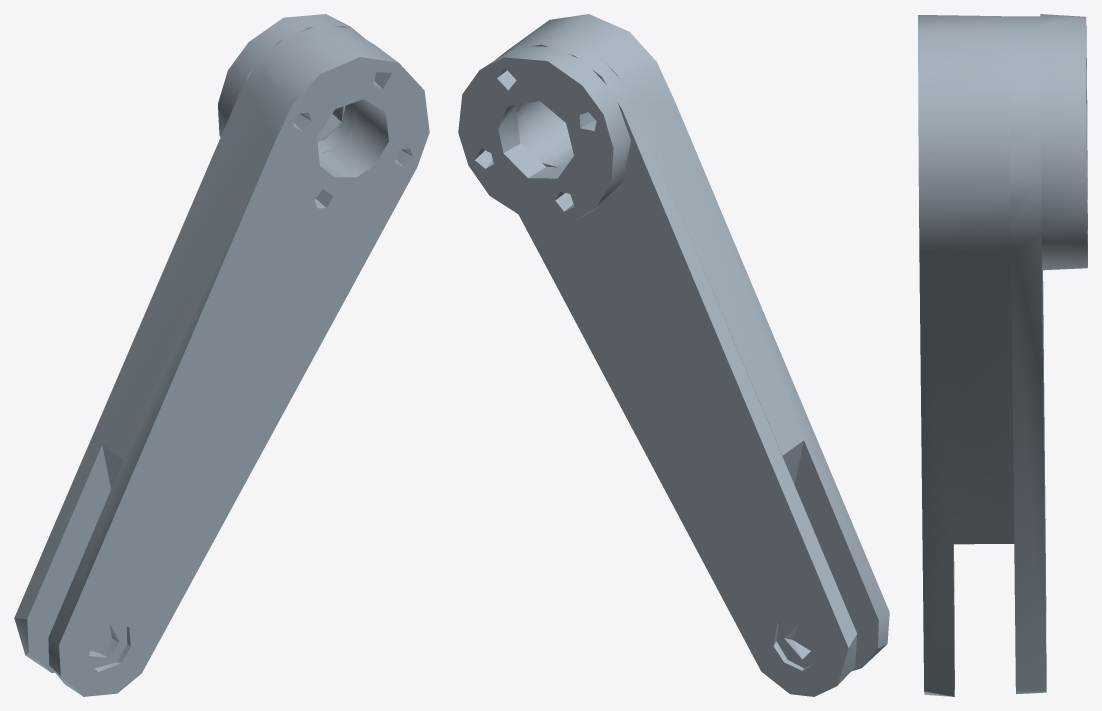
3 views of the same model, side by side, from view 1: azimuth 30°, elevation 25°; view 2: azimuth 150°, elevation 25°; view 3: azimuth 270°, elevation 25° (orthographic). The views are drawn at different scales.
Parts seen in each view (by area): view 1: tmp_export_fr_link4; view 2: tmp_export_fr_link4; view 3: tmp_export_fr_link4.
Boxes of the visible parts, x1,y1,x2,y2 form: tmp_export_fr_link4: (14,14,429,696); tmp_export_fr_link4: (458,14,889,696); tmp_export_fr_link4: (918,14,1087,696).
Bounding box in the file's own units: 0.0604 × 0.0167 × 0.0901.
